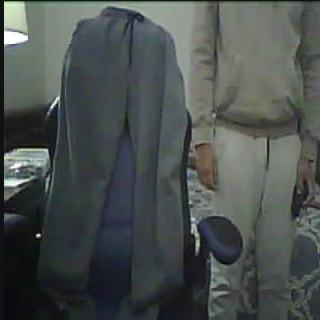Blue Sweatpants: (33, 14, 181, 301)
White Sweatpants: (202, 126, 302, 320)
Yellow Hoodie: (186, 0, 319, 144)
